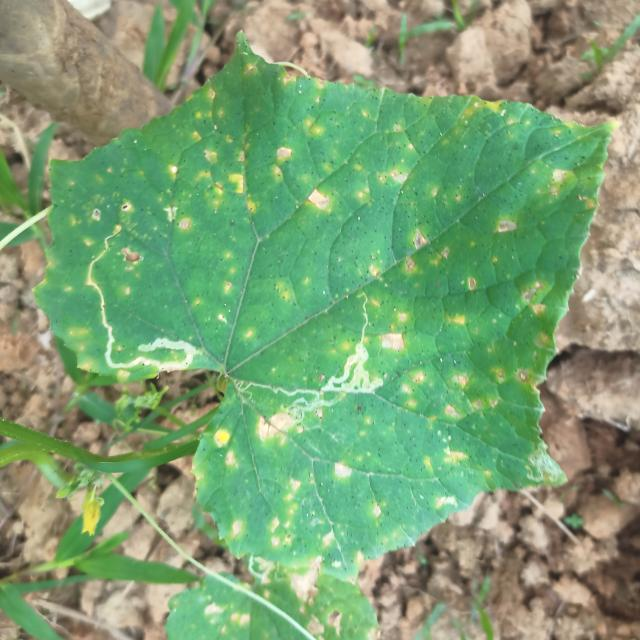disease_cucumber: (56, 70, 582, 563)
